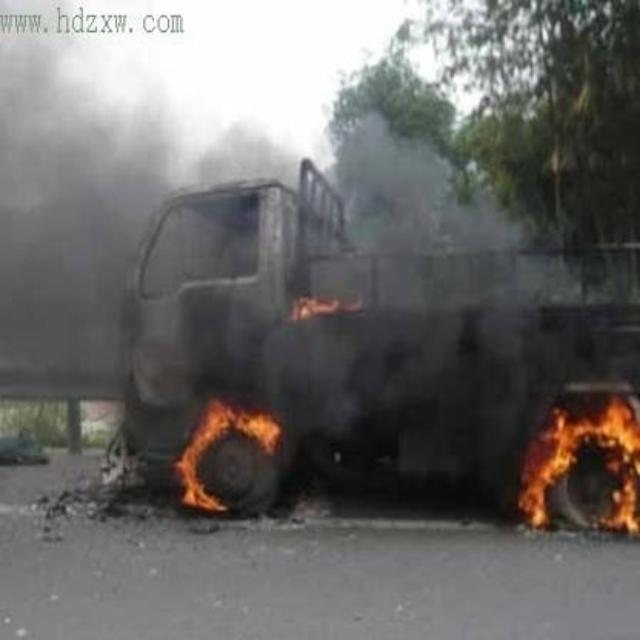Fire: (528, 397, 640, 543), (164, 386, 280, 524), (287, 288, 371, 318)
